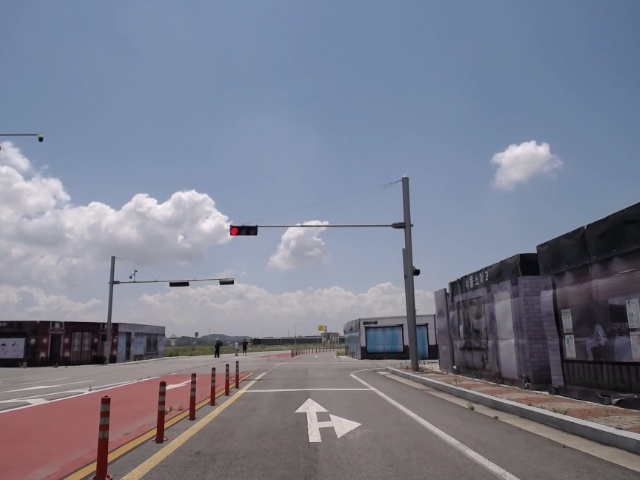red_3: (230, 226, 260, 235)
